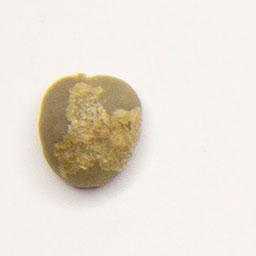premium: (36, 70, 146, 192)
